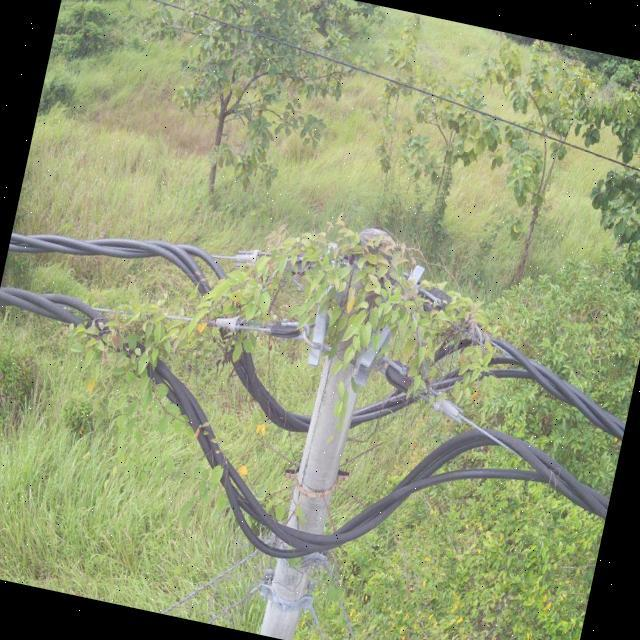critical vegetation: (61, 158, 536, 532)
